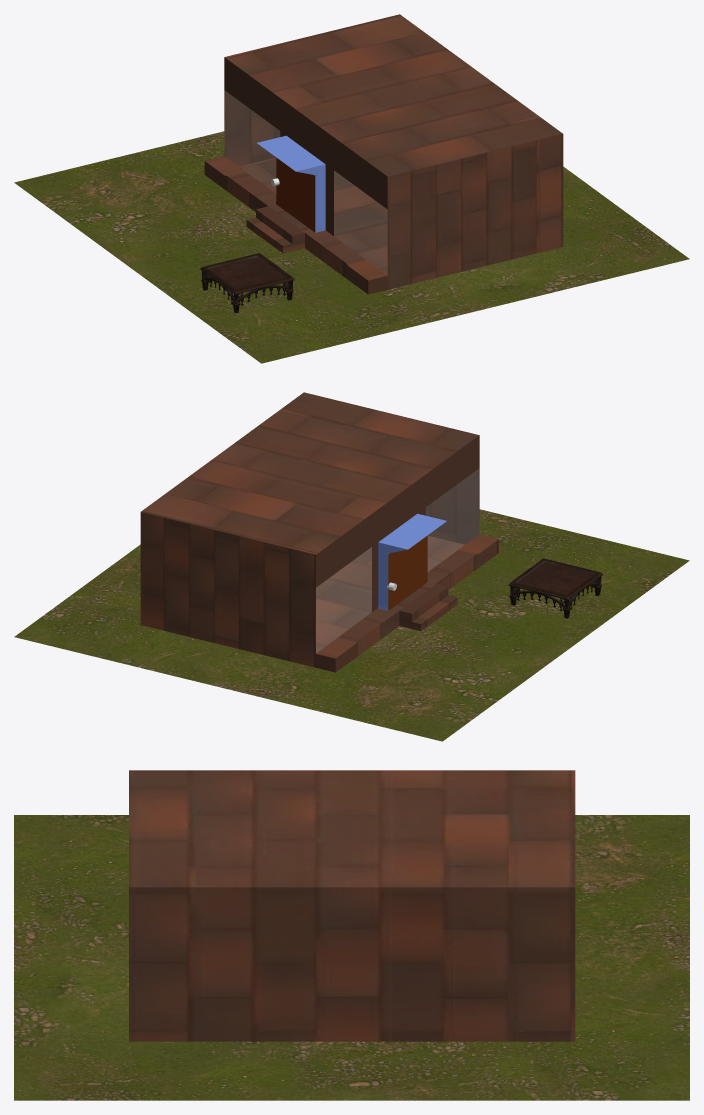
3 views of the same model, one above another, from view 1: azimuth 30°, elevation 25°; view 2: azimuth 150°, elevation 25°; view 3: azimuth 270°, elevation 25° (orthographic). The views are drawn at different scales.
Parts seen in each view (by area): view 1: Cube, Grid, gothic_coffee_table; view 2: Cube, Grid, gothic_coffee_table; view 3: Cube, Grid.
Part boxes in pixels (box(x1,y1,x2,y2)): Cube: box(204, 14, 563, 294); Grid: box(14, 131, 689, 363); gothic_coffee_table: box(200, 253, 294, 313); Cube: box(140, 392, 498, 672); Grid: box(14, 509, 689, 741); gothic_coffee_table: box(508, 558, 602, 618); Cube: box(129, 770, 575, 1041); Grid: box(14, 815, 689, 1100).
Bounding box in the file's own units: 67.22 × 17.54 × 67.22.
Materials: 6 (5 with a texture image).
